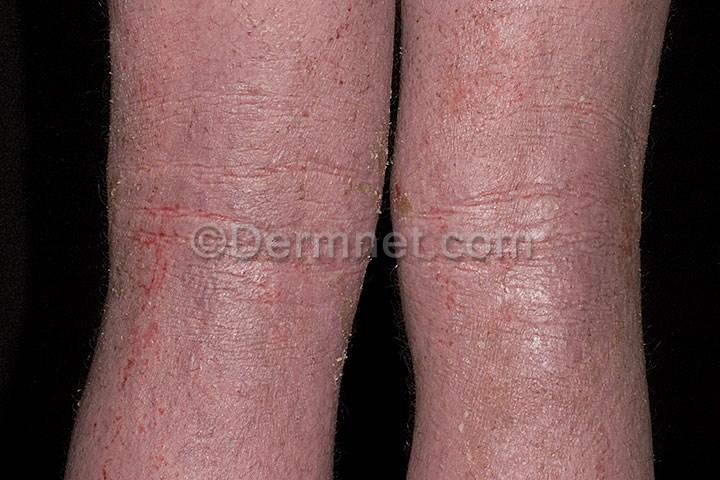Eritema 2: (70, 0, 676, 479)
exudacion 2: (95, 178, 243, 479)
xerosis 2: (61, 0, 152, 479), (614, 0, 678, 479), (330, 96, 418, 382)
